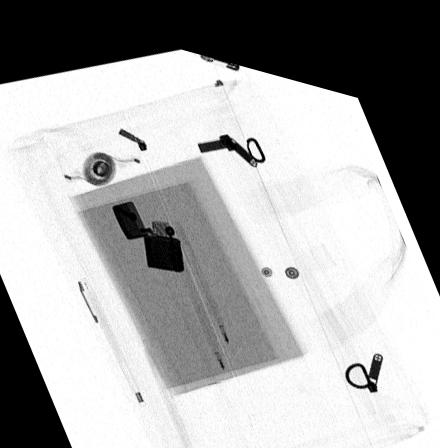Lighter: (110, 193, 185, 264)
